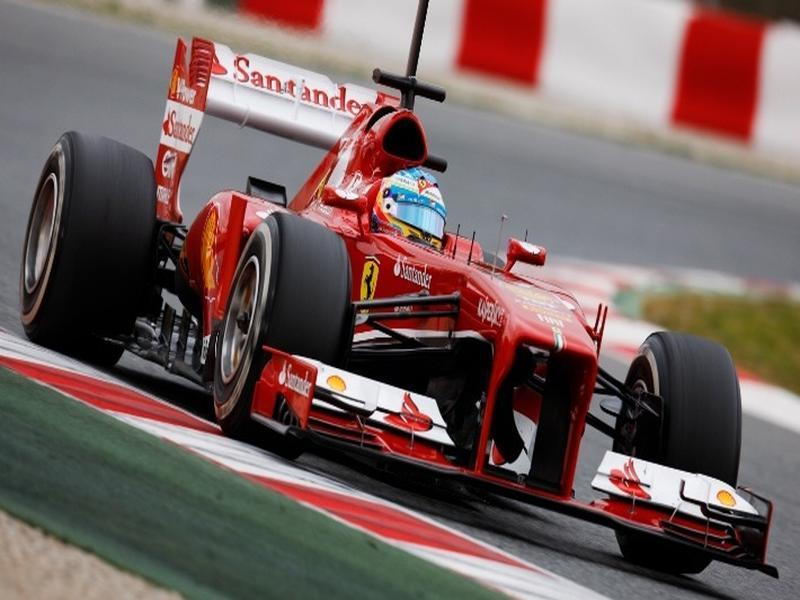f1: (30, 22, 777, 571)
